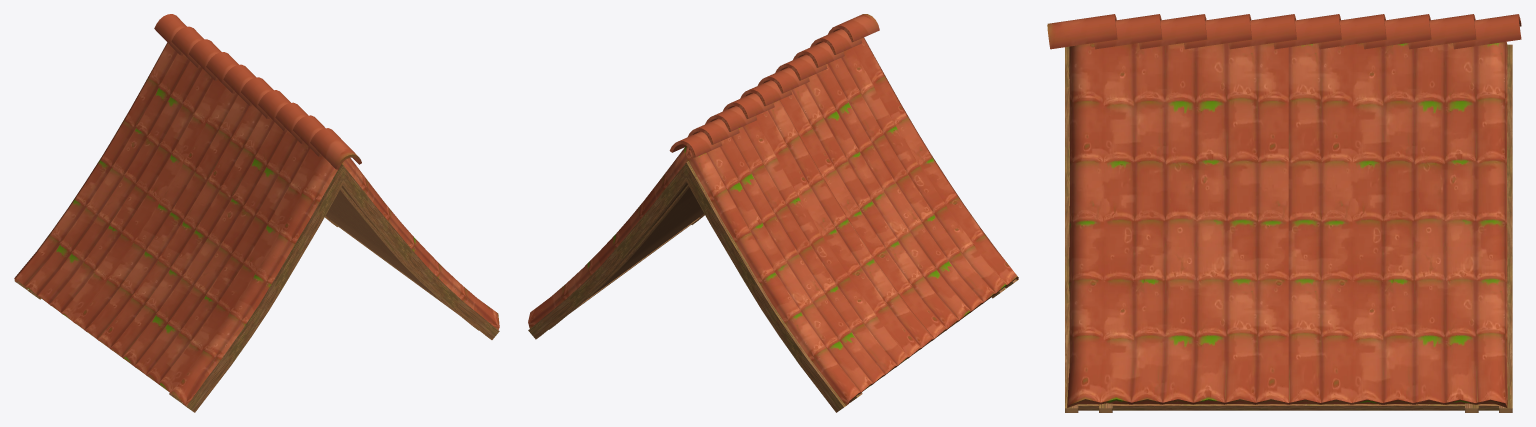
The model's file is Roof_RoundTiles_6x6.gltf.
The picture shows the model from 3 angles, left to right: view 1: azimuth 30°, elevation 25°; view 2: azimuth 150°, elevation 25°; view 3: azimuth 270°, elevation 25°; orthographic projection. The views are drawn at different scales.
Visible parts, largest first — view 1: Roof_RoundTiles_6x6; view 2: Roof_RoundTiles_6x6; view 3: Roof_RoundTiles_6x6.
Part boxes in pixels (left/top/right/bottom): Roof_RoundTiles_6x6: left=14, top=14, right=499, bottom=412; Roof_RoundTiles_6x6: left=528, top=14, right=1018, bottom=412; Roof_RoundTiles_6x6: left=1047, top=14, right=1521, bottom=412.
Bounding box in the file's own units: 8.25 × 5.67 × 8.03.
Materials: 2 (2 with a texture image).
